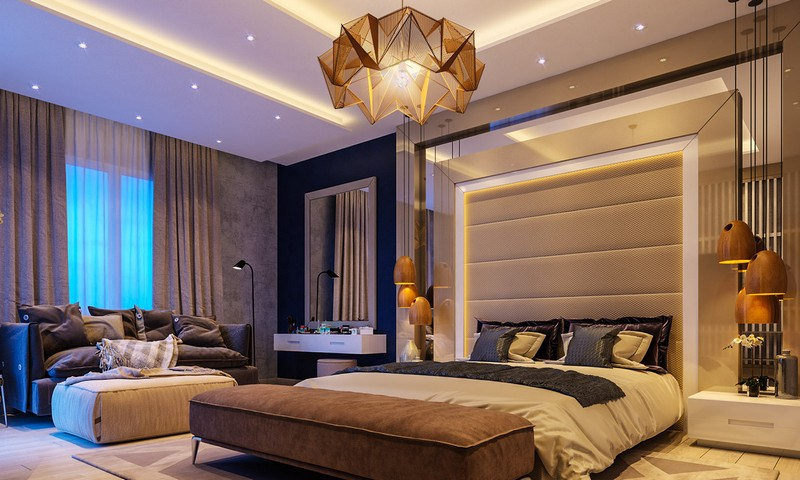bed: (194, 322, 686, 472)
lamp: (716, 215, 796, 331), (386, 253, 435, 355), (231, 261, 266, 368)
sofa: (6, 303, 256, 428)
stool: (686, 384, 800, 461), (314, 354, 362, 381)
